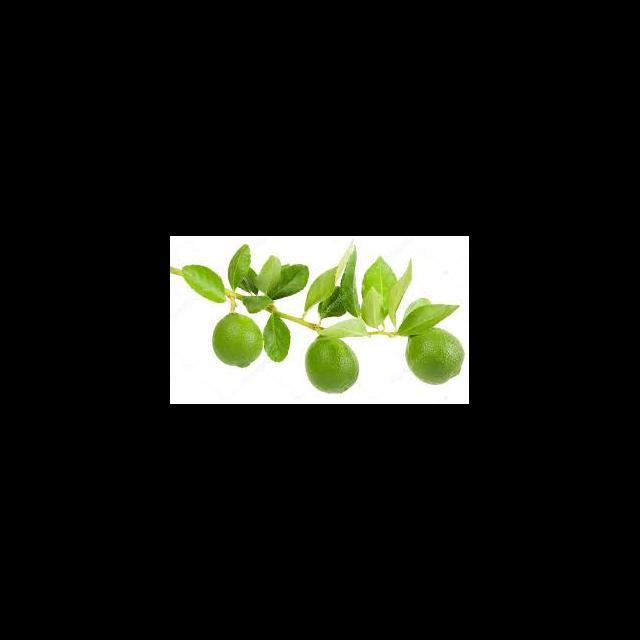lime: (406, 328, 466, 386), (304, 338, 360, 395), (212, 313, 264, 369)
